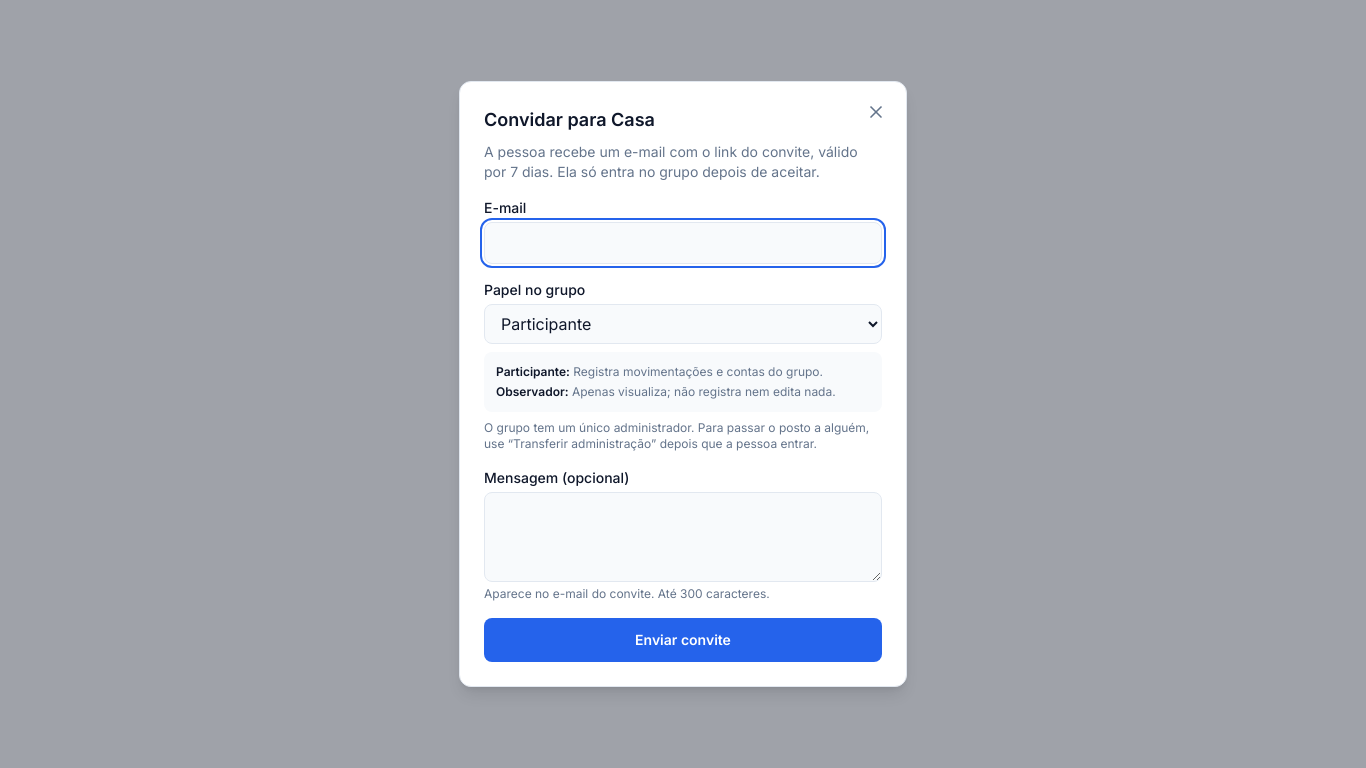
Test case: DialogoConvite › 409 CONVITE_DUPLICADO aponta o cancelamento, sem erro genérico (RN-36)
This screenshot has width=1366, height=768.
Type "ana@exemplo.com" into the field labelled "E-mail" at (683, 243), box [484,222,882,264]
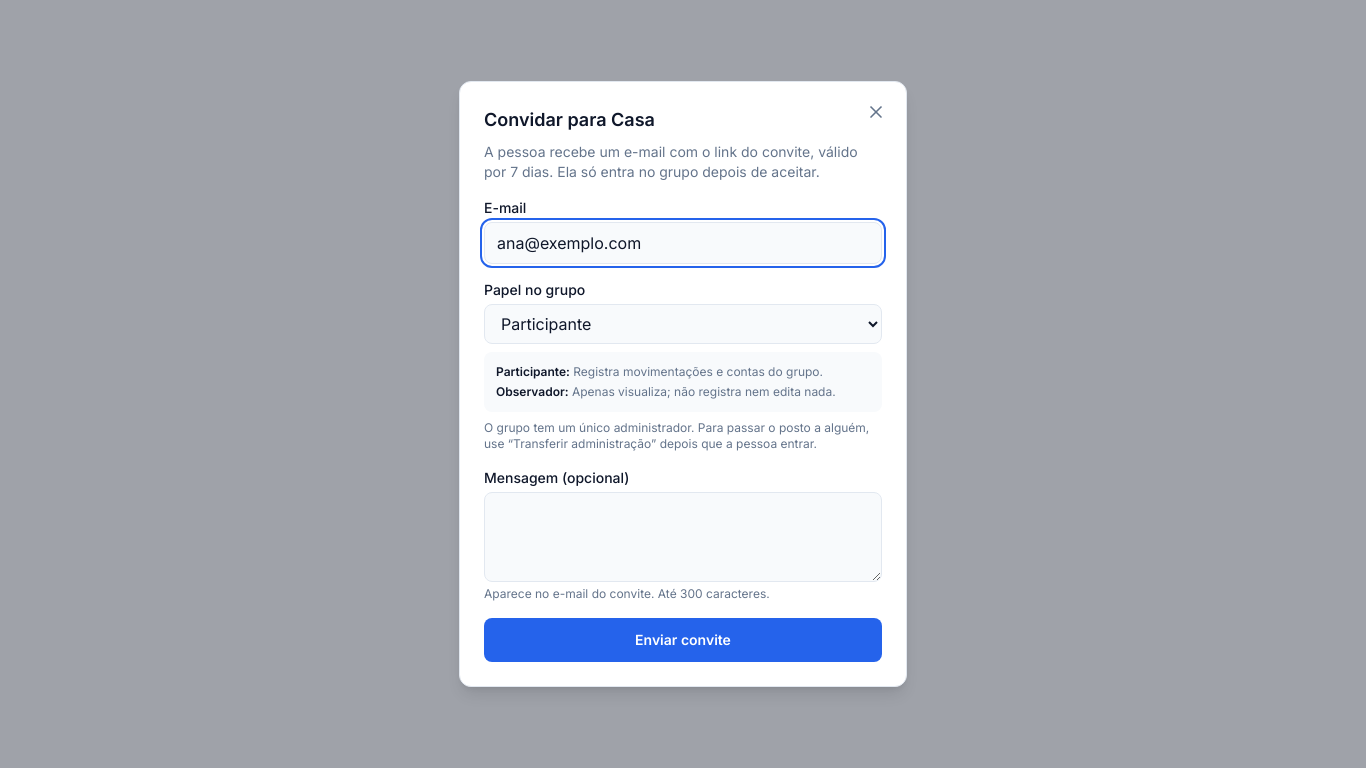
Click the button "Enviar convite" at (683, 640), box [484,618,882,662]
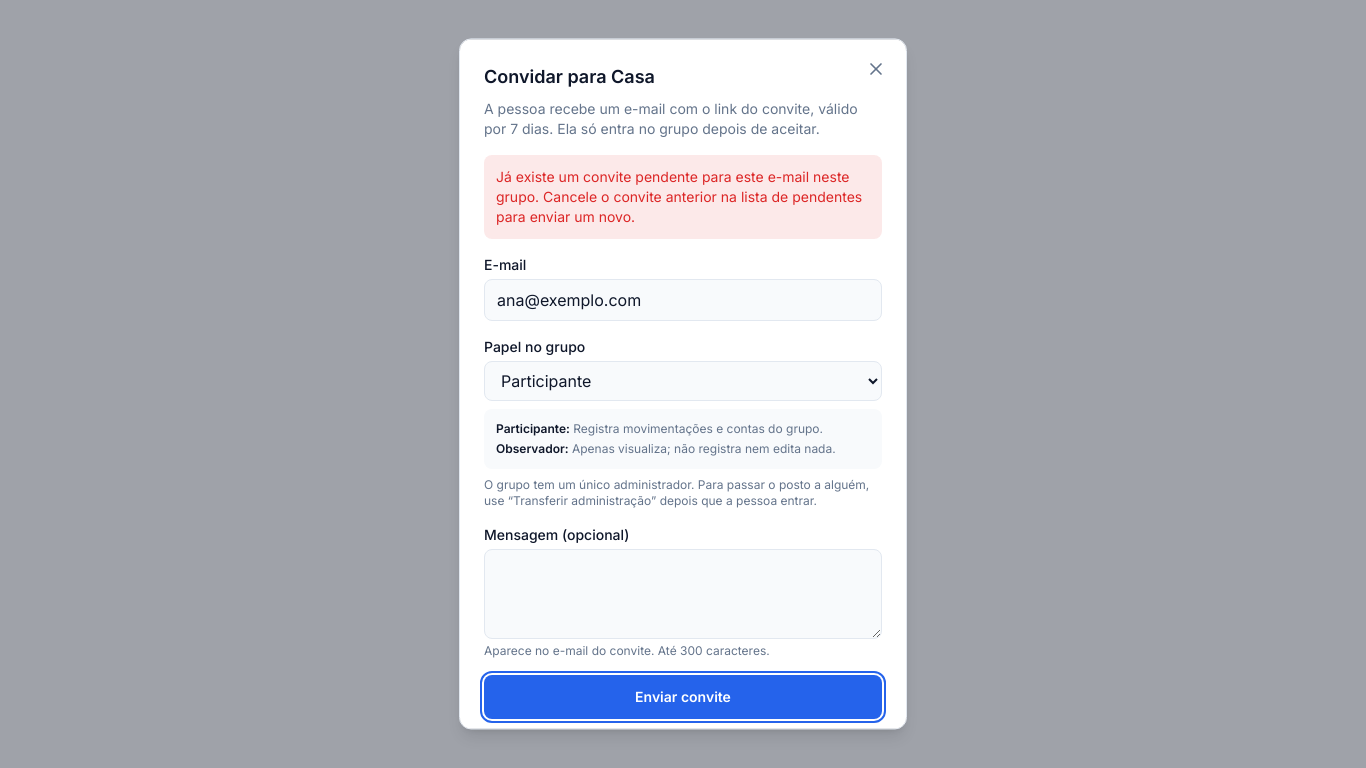
Result: the message shows "Cancele o convite anterior" at [496,168,862,225]
